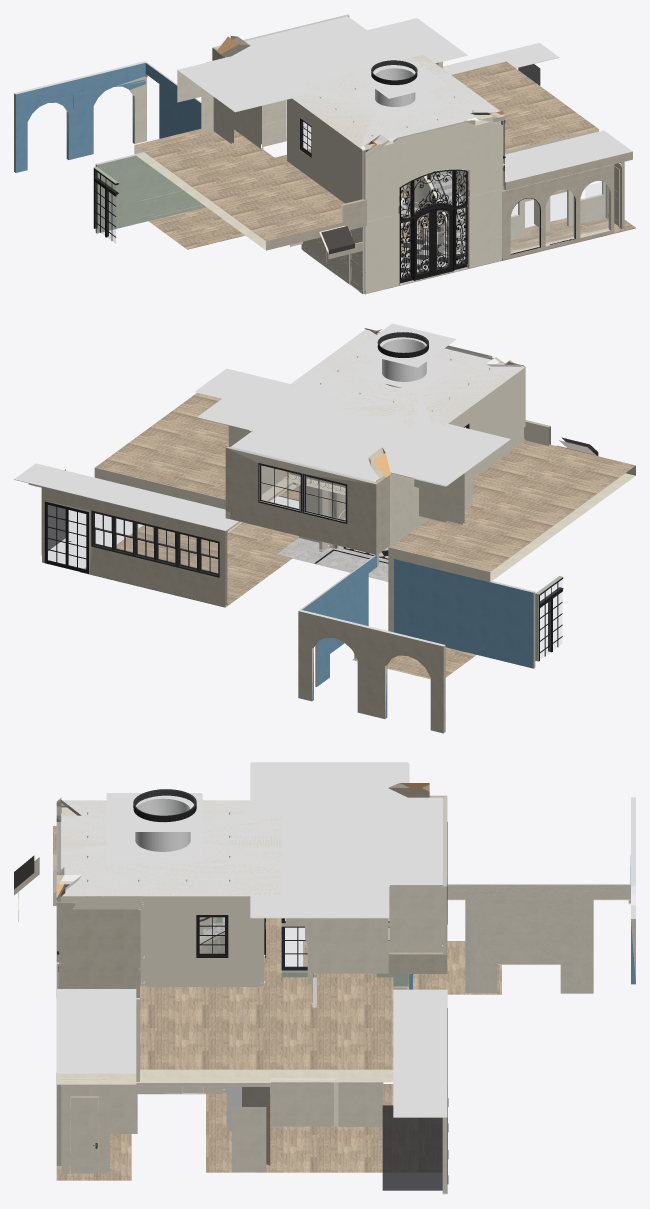
The model's file is entry-71e324c2bbc4.glb.
The picture shows the model from 3 angles, top to bottom: view 1: azimuth 30°, elevation 25°; view 2: azimuth 150°, elevation 25°; view 3: azimuth 270°, elevation 25°; orthographic projection. The views are drawn at different scales.
Visible parts, largest first — view 1: entry-look-2575515a05775d9e, entry-look-9d91b47435c6fb33, entry-4edf3a9420c06709, entry-9d91b47435c6fb33, entry-look-969b861f9850351e, entry-9ca48b730e5de4b2, entry-look-b19b106fc304963c, entry-746250f96522f643, entry-look-dbd60ee5c3733ed6, entry-look-c9e78b9ec1bb39cd, entry-e8793759323e04f0, entry-785988ccf932ddd5 (+38 smaller); view 2: entry-look-2575515a05775d9e, entry-look-9d91b47435c6fb33, entry-look-b19b106fc304963c, entry-9d91b47435c6fb33, entry-look-969b861f9850351e, entry-look-245f595ae2832e16, entry-look-3b0077416469e01b, entry-look-bfb9fa537cd11d1d, entry-look-9a0e9ee9b2a451d7, entry-e8793759323e04f0, entry-746250f96522f643, entry-look-3e6709f91b43c3bf (+21 smaller); view 3: entry-look-2575515a05775d9e, entry-look-9d91b47435c6fb33, entry-9d91b47435c6fb33, entry-look-3e6709f91b43c3bf, entry-look-3b0077416469e01b, entry-c51ecd664a3b22a3, entry-look-dbd60ee5c3733ed6, entry-look-9a0e9ee9b2a451d7, entry-e8793759323e04f0, entry-62353aa10fc57f23, entry-look-55ff1dfd7b659ec1, entry-look-cbd4bf73d9724a66 (+26 smaller).
Boxes of the visible parts, bbox=[...] form: entry-look-2575515a05775d9e: bbox=[134, 61, 598, 250]; entry-look-9d91b47435c6fb33: bbox=[177, 16, 467, 112]; entry-4edf3a9420c06709: bbox=[365, 119, 502, 221]; entry-9d91b47435c6fb33: bbox=[281, 56, 500, 149]; entry-look-969b861f9850351e: bbox=[14, 61, 146, 172]; entry-9ca48b730e5de4b2: bbox=[364, 189, 502, 293]; entry-look-b19b106fc304963c: bbox=[95, 152, 202, 233]; entry-746250f96522f643: bbox=[287, 98, 360, 203]; entry-look-dbd60ee5c3733ed6: bbox=[504, 130, 632, 190]; entry-look-c9e78b9ec1bb39cd: bbox=[502, 164, 614, 259]; entry-e8793759323e04f0: bbox=[285, 55, 499, 149]; entry-785988ccf932ddd5: bbox=[365, 120, 502, 220]; entry-look-2575515a05775d9e: bbox=[94, 393, 635, 582]; entry-look-9d91b47435c6fb33: bbox=[197, 376, 510, 486]; entry-look-b19b106fc304963c: bbox=[396, 559, 535, 668]; entry-9d91b47435c6fb33: bbox=[277, 329, 524, 432]; entry-look-969b861f9850351e: bbox=[298, 609, 445, 733]; entry-look-245f595ae2832e16: bbox=[225, 446, 376, 555]; entry-look-3b0077416469e01b: bbox=[80, 522, 476, 679]; entry-look-bfb9fa537cd11d1d: bbox=[42, 486, 227, 606]; entry-look-9a0e9ee9b2a451d7: bbox=[14, 463, 238, 530]; entry-e8793759323e04f0: bbox=[277, 330, 524, 429]; entry-746250f96522f643: bbox=[448, 368, 523, 478]; entry-look-3e6709f91b43c3bf: bbox=[301, 555, 376, 686]; entry-look-2575515a05775d9e: bbox=[53, 826, 393, 1082]; entry-look-9d91b47435c6fb33: bbox=[250, 762, 442, 918]; entry-9d91b47435c6fb33: bbox=[61, 800, 281, 896]; entry-look-3e6709f91b43c3bf: bbox=[447, 884, 630, 993]; entry-look-3b0077416469e01b: bbox=[206, 941, 501, 1172]; entry-c51ecd664a3b22a3: bbox=[144, 896, 263, 986]; entry-look-dbd60ee5c3733ed6: bbox=[57, 989, 136, 1084]; entry-look-9a0e9ee9b2a451d7: bbox=[393, 989, 447, 1117]; entry-e8793759323e04f0: bbox=[58, 798, 281, 895]; entry-62353aa10fc57f23: bbox=[68, 896, 140, 997]; entry-look-55ff1dfd7b659ec1: bbox=[447, 884, 630, 993]; entry-look-cbd4bf73d9724a66: bbox=[382, 1105, 442, 1190].
Bounding box in the file's own units: 21.07 × 7.94 × 18.
Materials: 67 (13 with a texture image).
